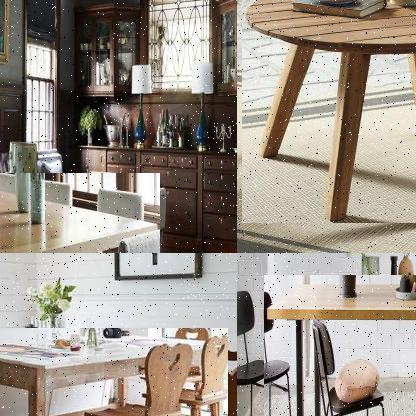table: (240, 0, 415, 225), (262, 275, 415, 415), (0, 327, 229, 415), (0, 173, 161, 252)
